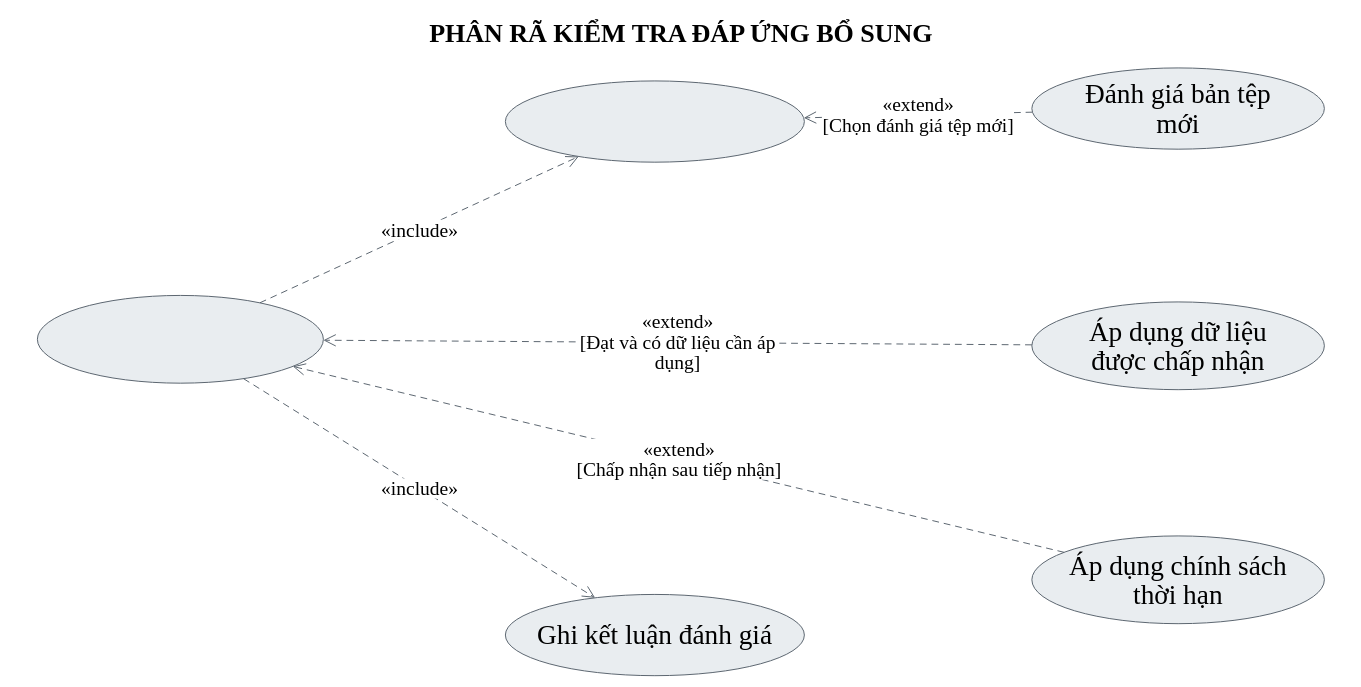
The diagram is 1361 pixels wide and 687 high, and some of its shapes have lost their labels. The box of each missing label's shape, as (x1, y1, x2, y2) in pixels:
Kiểm tra đáp ứng bổ sung: (37, 295, 324, 383)
Xem lần gửi đang chờ: (505, 80, 805, 162)
